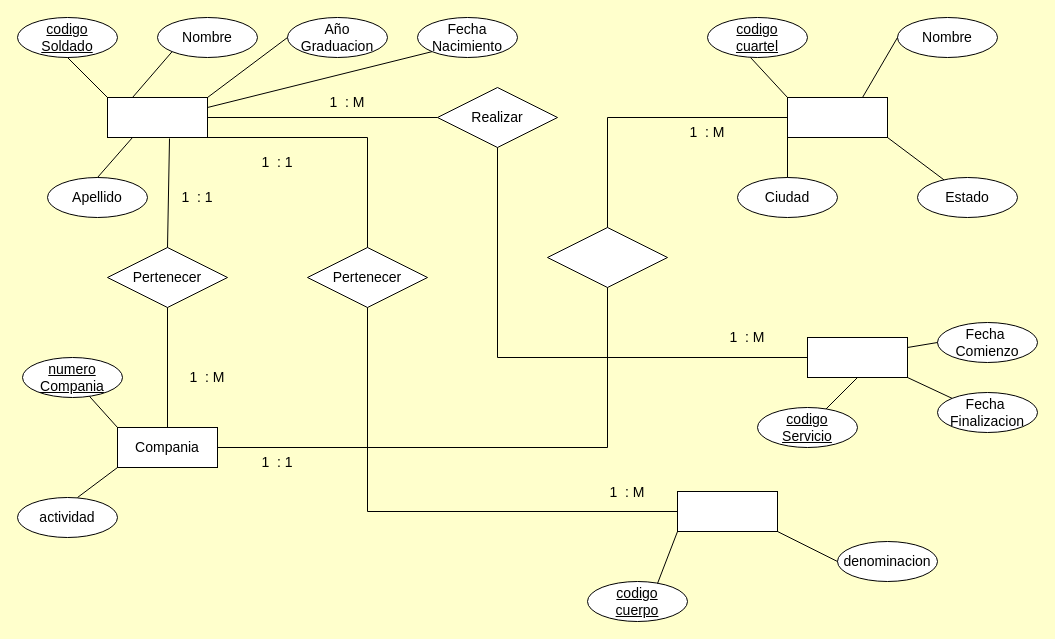
Some shapes in this 1055 by 639 pixel diagram are drawn without their labels. Here are the shapes that lost their labels. From the top down, the centre of each, then its label:
At pixel 157 117: "Soldado".
At pixel 837 117: "Cuartel".
At pixel 607 257: "Haber".
At pixel 857 357: "Servicio".
At pixel 727 511: "Cuerpo de Ejército".
